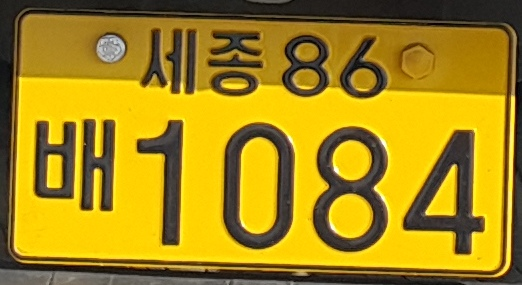0: (220, 123, 297, 250)
1: (129, 117, 202, 246)
4: (402, 128, 485, 255)
6: (338, 34, 386, 100)
8: (310, 125, 388, 252), (280, 33, 330, 98)
배: (34, 117, 114, 210)
세종_H: (139, 25, 265, 96)
